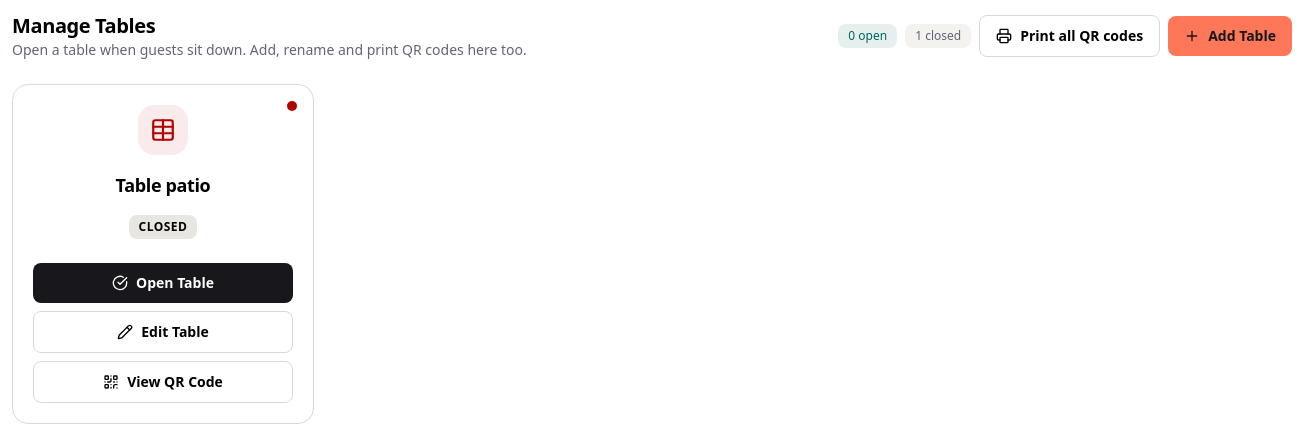
Scenario: the owner opens and closes tables (VM-37) › a closed table has an Open Table button, which opens it
Click the button "Open Table" at (163, 283), box [33,263,293,303]
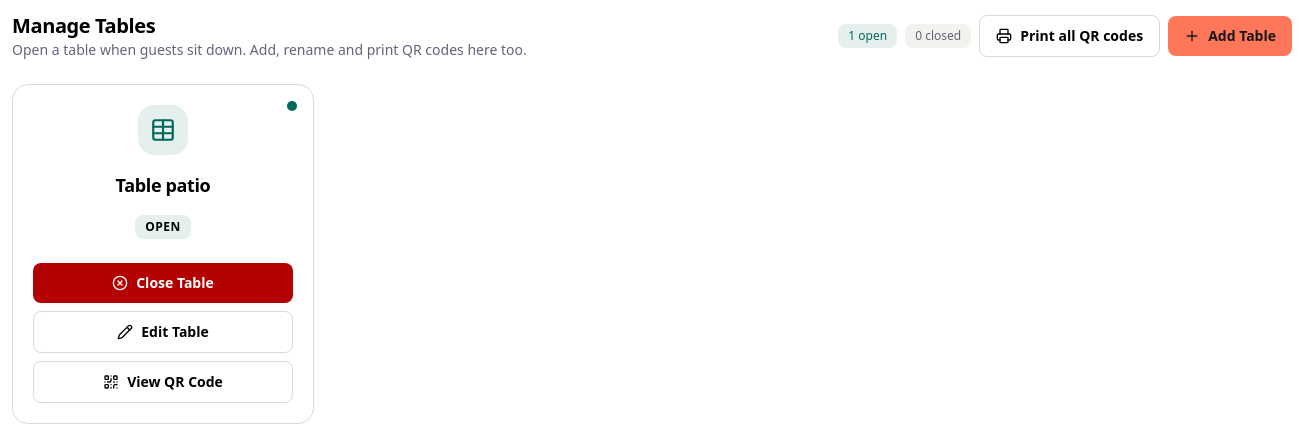
Result: the button "Close Table" is shown at [33,263,293,303]
Result: the text "Open" is shown at [135,215,191,239]
